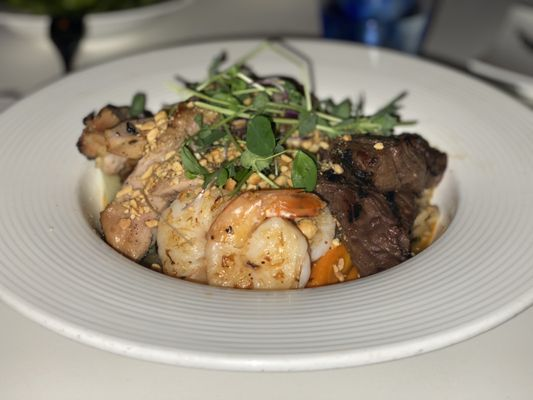curry: (1, 0, 518, 400)
